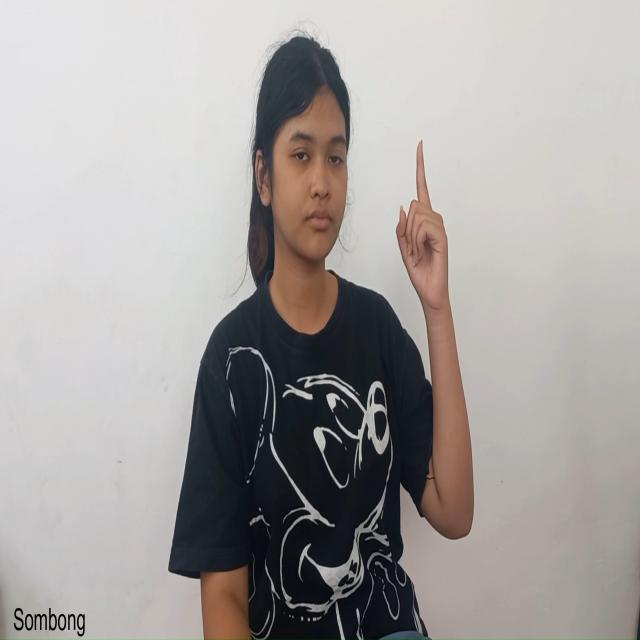Sombong -BISINDO-: (393, 135, 476, 544)
